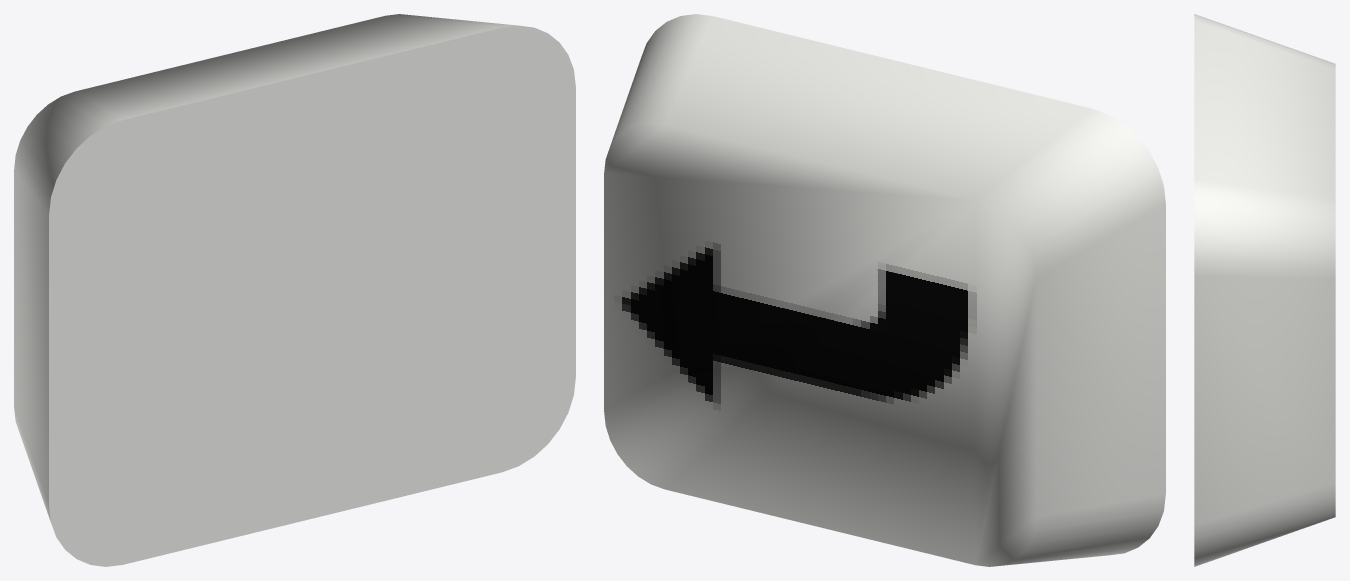
File: ENTER_BUTTON_PULSE.fbx
3 renders of one model, left to right at view 1: azimuth 30°, elevation 25°; view 2: azimuth 150°, elevation 25°; view 3: azimuth 270°, elevation 25°, orthographic. The views are drawn at different scales.
Visible parts, largest first — view 1: ENTER_BUTTON_PULSE; view 2: ENTER_BUTTON_PULSE; view 3: ENTER_BUTTON_PULSE.
Part boxes in pixels (box(x1,y1,x2,y2)): ENTER_BUTTON_PULSE: box(14, 14, 575, 566); ENTER_BUTTON_PULSE: box(604, 14, 1165, 566); ENTER_BUTTON_PULSE: box(1194, 14, 1335, 566).
Size of the model in its own units: 2849 by 2298 by 771.
Materials: 1 (1 with a texture image).
